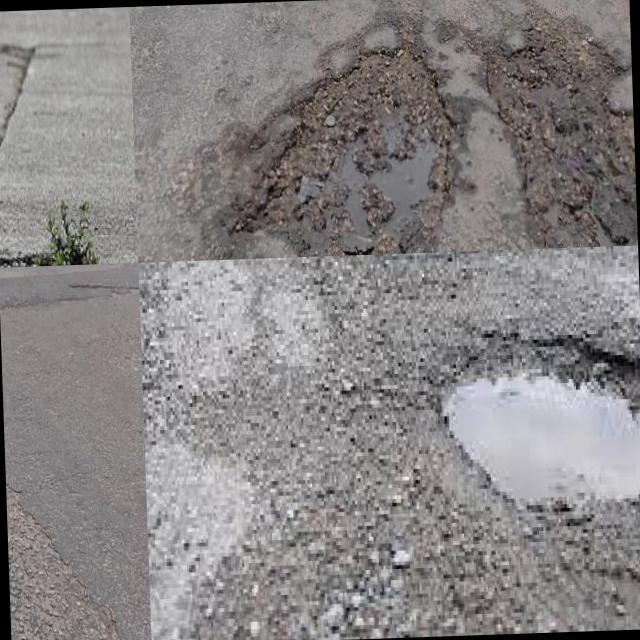Pothole: (228, 39, 456, 257), (484, 16, 638, 247), (441, 338, 640, 511)
